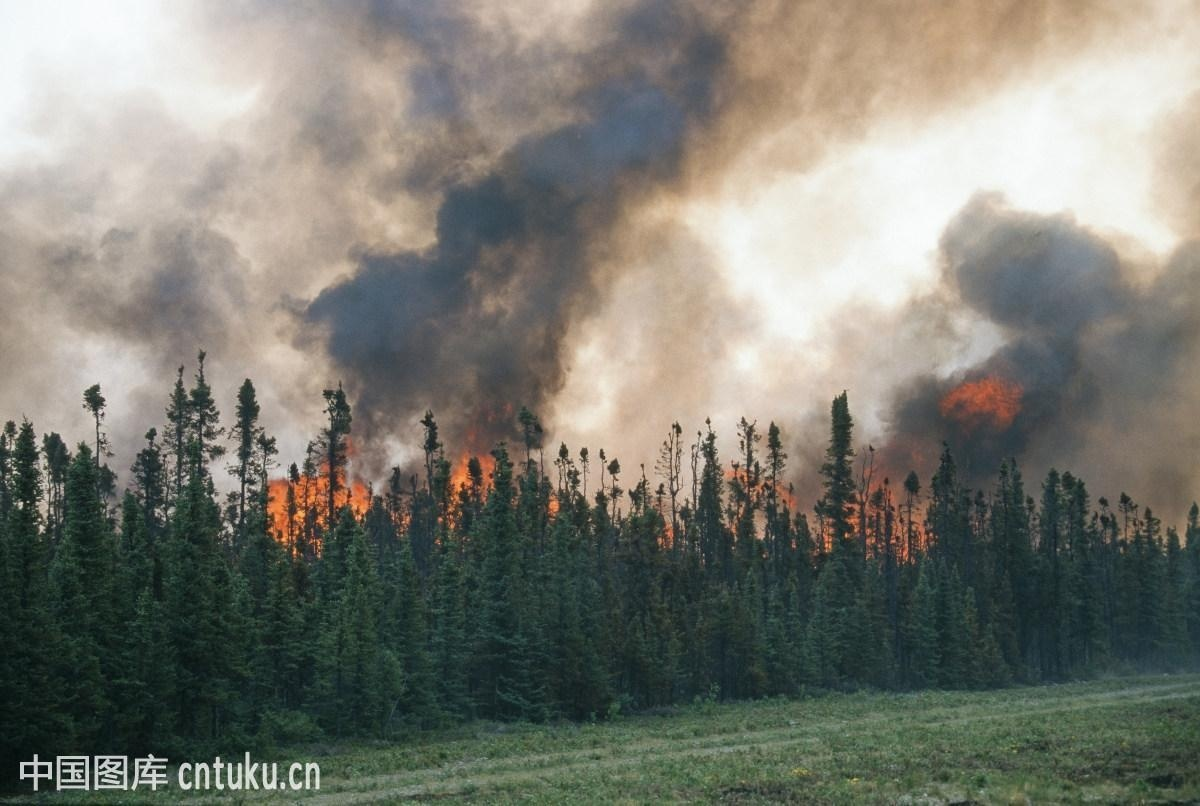fire: (716, 451, 938, 558), (264, 461, 373, 554), (445, 447, 502, 516), (946, 374, 1017, 417)
